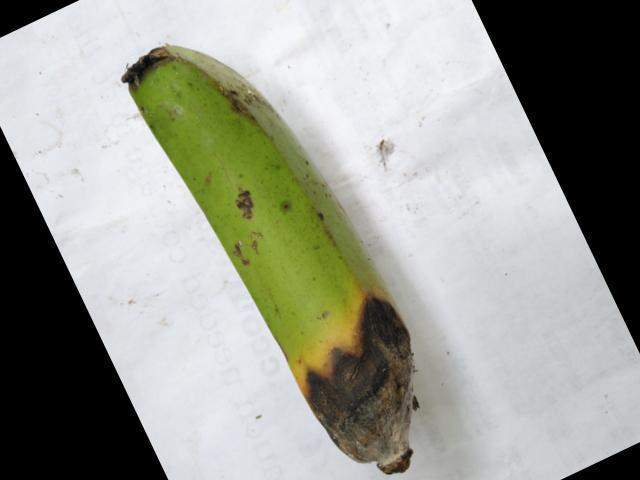rotten: (266, 294, 427, 479)
unripe: (123, 37, 349, 347)
